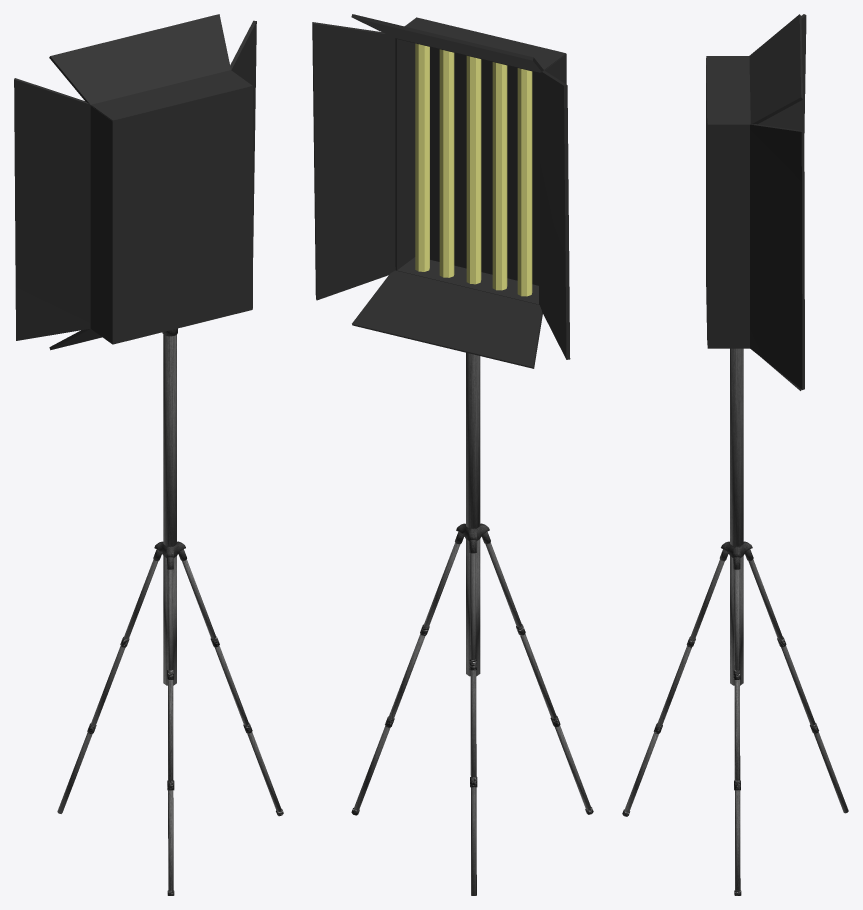
The model's file is luminaria.obj.
3 renders of one model, left to right at view 1: azimuth 30°, elevation 25°; view 2: azimuth 150°, elevation 25°; view 3: azimuth 270°, elevation 25°, orthographic. The views are drawn at different scales.
Parts seen in each view (by area): view 1: luminaria:Final group polySurface17, luminaria:Final group polySurface20, luminaria:Final group polySurface19, luminaria:Final group polySurface14, luminaria:Final group polySurface18, luminaria:Final group polySurface24, luminaria:Final group polySurface16, luminaria:Final group polySurface32, luminaria:Final group polySurface23, luminaria:Final group polySurface5, luminaria:Final group polySurface34, luminaria:Final group polySurface38; view 2: luminaria:Final group polySurface16, luminaria:Final group polySurface17, luminaria:Final group polySurface22, luminaria:Final group polySurface20, luminaria:Final group polySurface23, luminaria:Final group polySurface15, luminaria:Final group polySurface26, luminaria:Final group polySurface28, luminaria:Final group polySurface27, luminaria:Final group polySurface21, luminaria:Final group polySurface24, luminaria:Final group polySurface19 (+7 smaller); view 3: luminaria:Final group polySurface16, luminaria:Final group polySurface23, luminaria:Final group polySurface19, luminaria:Final group polySurface18, luminaria:Final group polySurface24, luminaria:Final group polySurface32, luminaria:Final group polySurface20, luminaria:Final group polySurface3, polySurface1 luminaria:Final group, luminaria:Final group polySurface4, luminaria:Final group polySurface9, luminaria:Final group polySurface17 (+5 smaller).
Boxes of the visible parts, x1,y1,x2,y2 form: luminaria:Final group polySurface17: (116,87,249,341); luminaria:Final group polySurface20: (14,78,90,340); luminaria:Final group polySurface19: (49,14,230,105); luminaria:Final group polySurface14: (90,106,116,343); luminaria:Final group polySurface18: (91,70,252,123); luminaria:Final group polySurface24: (163,334,176,546); luminaria:Final group polySurface16: (230,20,256,257); luminaria:Final group polySurface32: (163,556,176,685); luminaria:Final group polySurface23: (249,86,252,308); luminaria:Final group polySurface5: (167,569,173,670); luminaria:Final group polySurface34: (168,680,173,780); luminaria:Final group polySurface38: (168,790,173,890); luminaria:Final group polySurface16: (312,22,395,300); luminaria:Final group polySurface17: (430,47,538,285); luminaria:Final group polySurface22: (352,270,542,368); luminaria:Final group polySurface20: (539,70,570,359); luminaria:Final group polySurface23: (395,38,415,270); luminaria:Final group polySurface15: (492,62,507,290); luminaria:Final group polySurface26: (517,68,532,296); luminaria:Final group polySurface28: (439,49,454,277); luminaria:Final group polySurface27: (466,56,481,284); luminaria:Final group polySurface21: (415,43,429,271); luminaria:Final group polySurface24: (466,352,480,528); luminaria:Final group polySurface19: (351,14,543,72); luminaria:Final group polySurface16: (750,124,804,389); luminaria:Final group polySurface23: (707,125,749,347); luminaria:Final group polySurface19: (749,14,802,124); luminaria:Final group polySurface18: (706,56,750,125); luminaria:Final group polySurface24: (730,348,743,546); luminaria:Final group polySurface32: (730,556,743,685); luminaria:Final group polySurface20: (758,14,806,132); luminaria:Final group polySurface3: (734,680,740,780); polySurface1 luminaria:Final group: (734,569,739,670); luminaria:Final group polySurface4: (735,790,740,890); luminaria:Final group polySurface9: (814,732,848,813); luminaria:Final group polySurface17: (706,58,707,344).
Size of the model in its own units: 1.5 by 4.64 by 1.21.
Materials: 6 (5 with a texture image).
